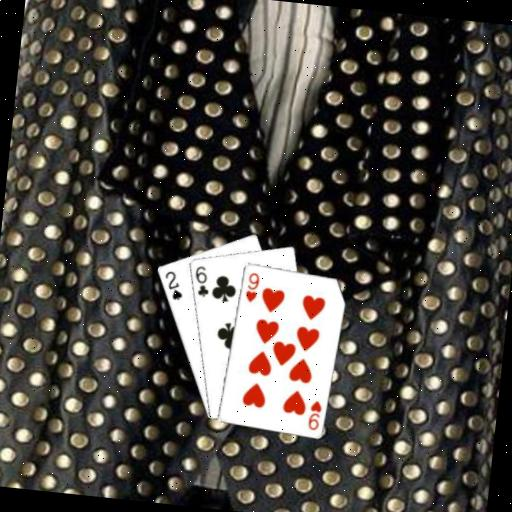2S: (159, 267, 186, 302)
6C: (190, 263, 213, 299)
9H: (241, 268, 261, 304), (305, 397, 325, 432)
